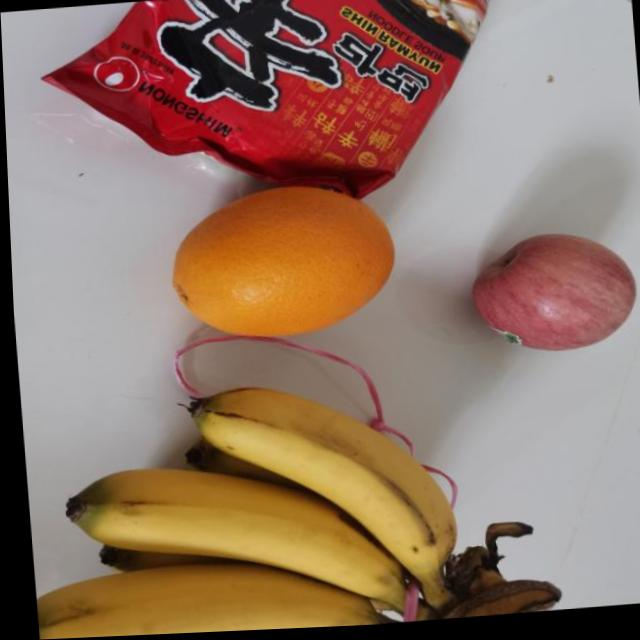Apple: (465, 230, 640, 362)
Banana: (17, 362, 561, 640)
Orange: (161, 175, 399, 347)
